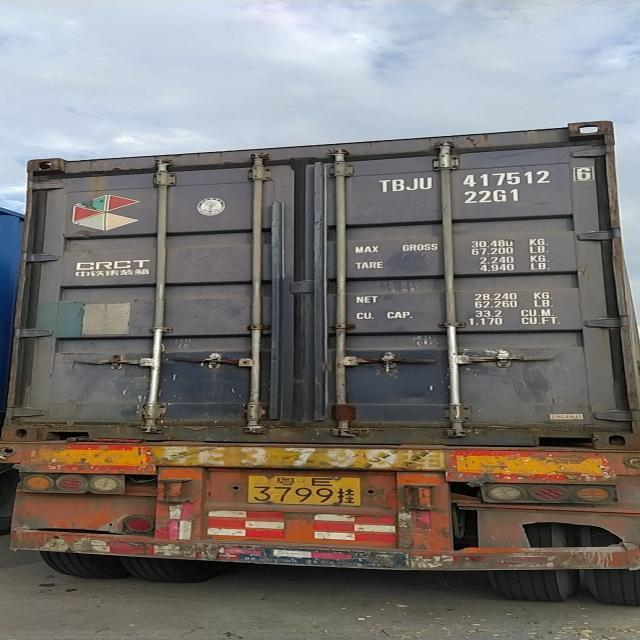ISO: (459, 186, 526, 209)
container_number: (369, 164, 593, 188)
